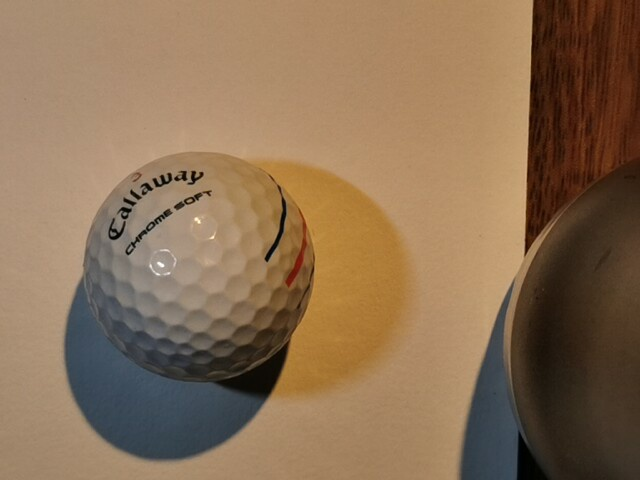Ball: (83, 151, 315, 382)
Callaway: (108, 170, 205, 241)
